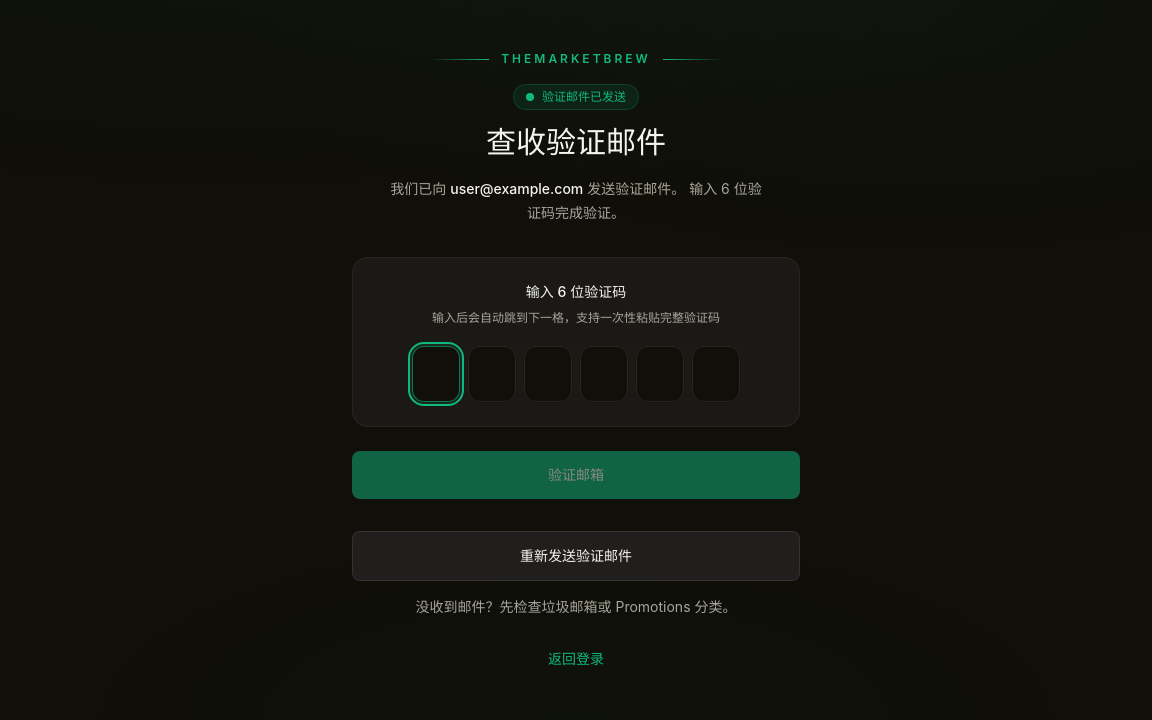
Test case: /verify-email page › shows resend failure state when resend request fails
The image size is (1152, 720).
Click the button "重新发送验证邮件".
click(576, 556)  # box [352,531,800,581]
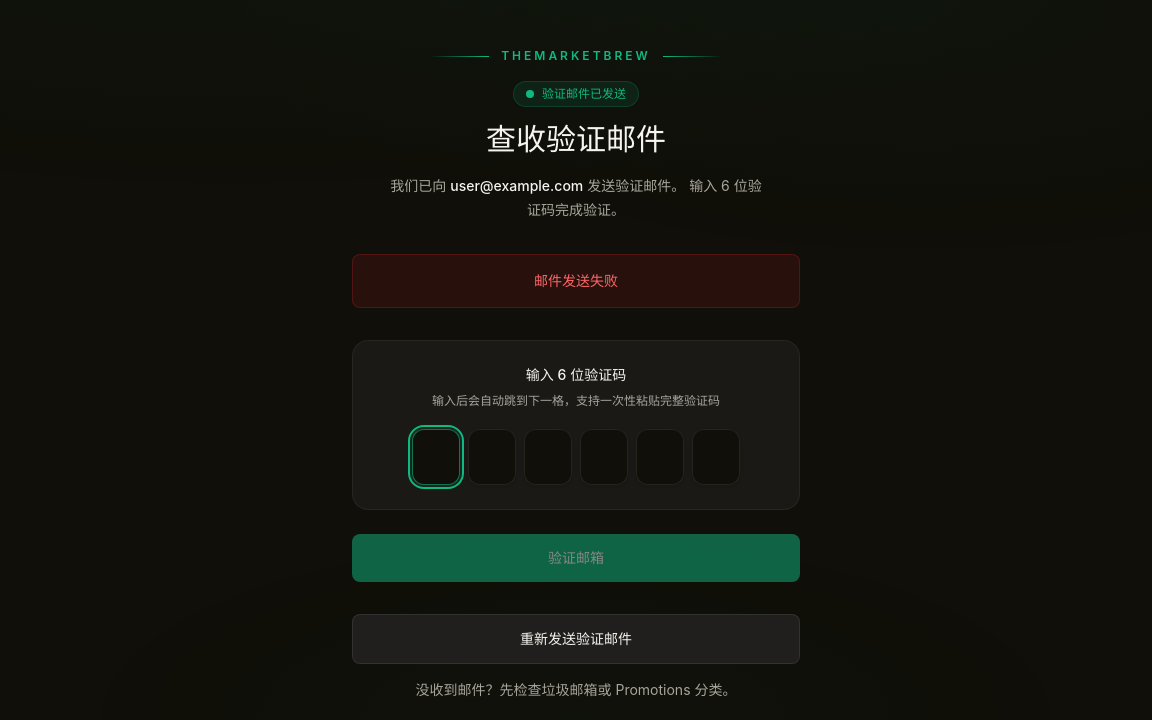
Now the text "邮件发送失败" is shown, box [534,272,618,288]
